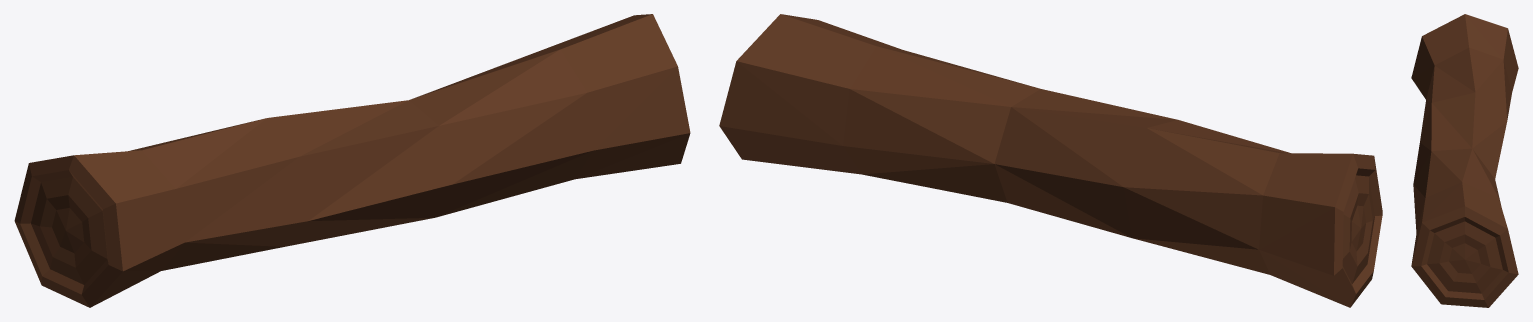
Rendered from FallenLog1.fbx.
3 renders of one model, left to right at view 1: azimuth 30°, elevation 25°; view 2: azimuth 150°, elevation 25°; view 3: azimuth 270°, elevation 25°, orthographic. The views are drawn at different scales.
Visible parts, largest first — view 1: FallenLog1; view 2: FallenLog1; view 3: FallenLog1.
Part boxes in pixels (x1,y1,x2,y2): FallenLog1: [14, 14, 690, 307]; FallenLog1: [719, 14, 1382, 307]; FallenLog1: [1411, 14, 1518, 307].
Size of the model in its own units: 316 by 67.58 by 69.32.
